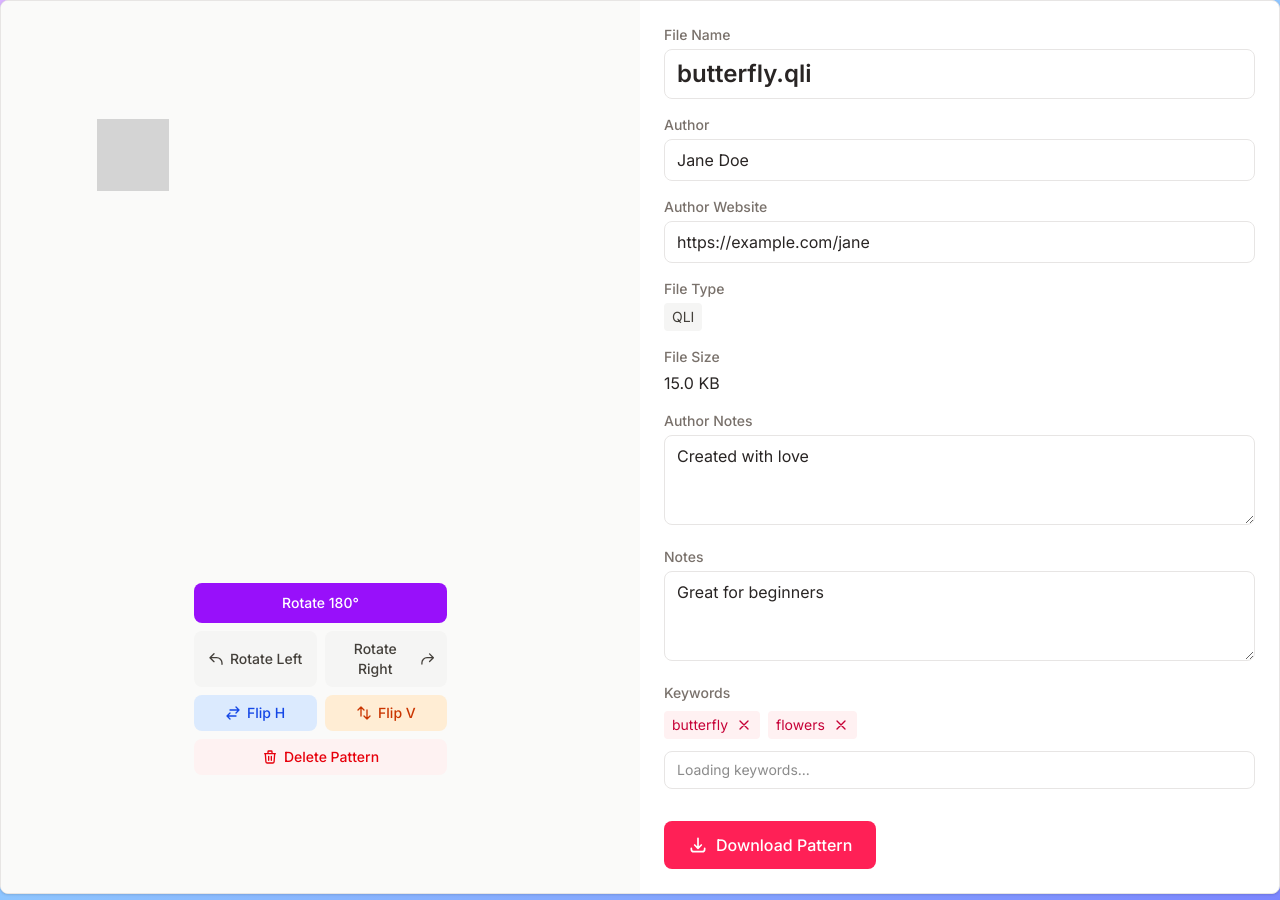
Test: PatternDetailClient › Admin mode - Save metadata › shows Save Changes button when field is modified
Expected: the button "Save Changes" is not shown
Note: Modify a field
Replace the text in the field with placeholder "Pattern name" below "File Name" with "new_name.qli" at (960, 74), box [664,49,1255,99]
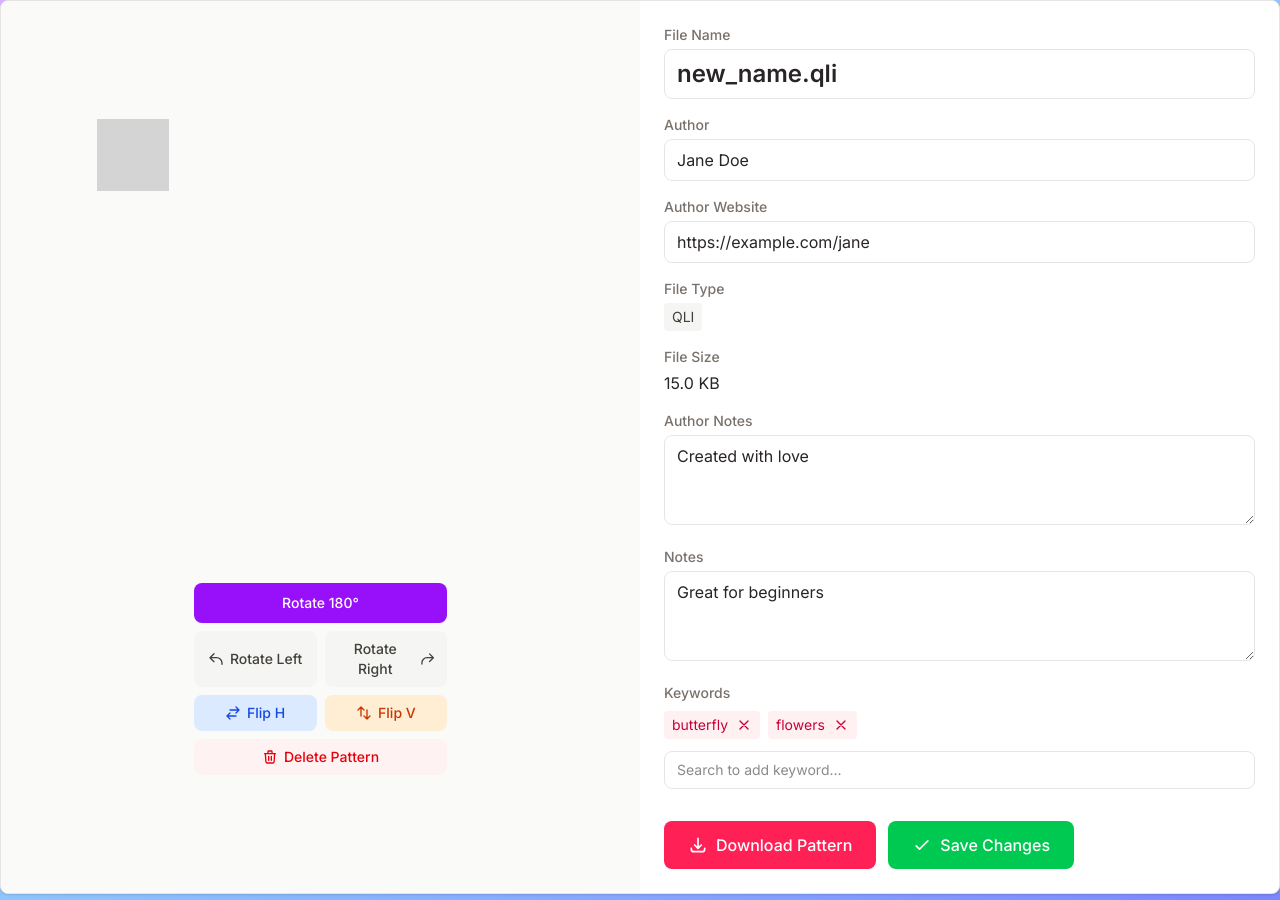
Expected: the button "Save Changes" is shown, [888,821,1074,869]
